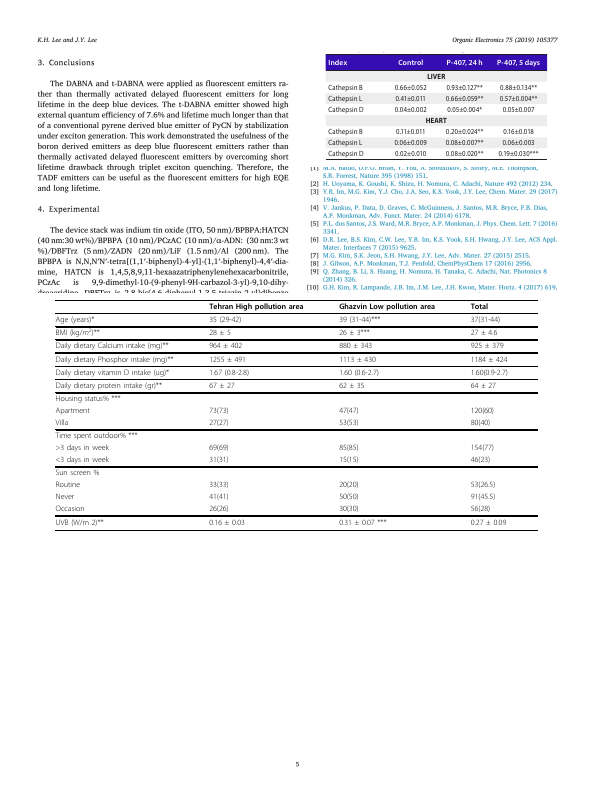borderless: (54, 298, 538, 530), (326, 52, 547, 159)
cell: (55, 355, 175, 364), (55, 381, 163, 391), (55, 342, 170, 351), (55, 368, 170, 377), (338, 302, 436, 311), (208, 302, 304, 311), (55, 432, 138, 441), (55, 394, 121, 404), (55, 455, 110, 465), (54, 327, 101, 338), (55, 444, 110, 453), (55, 518, 104, 527), (338, 518, 387, 527), (338, 315, 381, 325), (54, 315, 95, 325), (55, 469, 100, 478), (496, 58, 541, 67), (208, 368, 250, 377), (338, 368, 380, 377), (497, 150, 539, 159), (55, 406, 91, 416), (208, 355, 247, 364), (338, 355, 377, 364), (470, 368, 509, 377), (445, 83, 484, 92), (499, 83, 538, 92), (445, 94, 484, 103), (499, 94, 538, 103), (445, 128, 484, 137), (445, 139, 484, 148), (445, 150, 484, 159), (470, 355, 508, 364), (208, 518, 246, 527), (446, 58, 484, 67), (208, 315, 242, 325), (470, 518, 507, 527), (327, 83, 364, 92), (327, 105, 364, 114), (446, 105, 483, 114), (327, 128, 364, 137), (327, 150, 364, 159), (338, 328, 371, 338), (327, 94, 363, 103), (327, 139, 363, 148), (208, 342, 243, 351), (338, 342, 373, 351), (470, 342, 505, 351), (393, 139, 428, 148), (501, 139, 536, 148), (470, 315, 501, 325), (394, 83, 428, 92), (394, 105, 428, 114), (394, 94, 427, 103), (502, 105, 535, 114), (502, 128, 535, 137), (394, 150, 427, 159), (470, 328, 498, 338), (395, 128, 426, 137), (208, 381, 235, 391), (338, 381, 365, 391), (470, 381, 497, 391), (55, 505, 85, 514), (470, 406, 495, 416), (397, 58, 424, 67), (208, 328, 232, 338), (55, 481, 81, 490), (470, 481, 496, 490), (470, 493, 496, 502), (470, 444, 495, 453), (208, 406, 230, 416), (208, 418, 230, 428), (208, 455, 230, 465), (338, 406, 359, 416), (338, 418, 359, 428), (470, 418, 491, 428), (338, 455, 359, 465), (470, 455, 491, 465), (208, 444, 230, 453), (208, 481, 230, 490), (208, 493, 230, 502), (208, 505, 230, 514), (338, 444, 359, 453), (338, 481, 359, 490), (338, 493, 359, 502), (338, 505, 359, 514), (470, 505, 491, 514), (327, 58, 348, 67), (55, 493, 75, 502), (470, 302, 489, 311), (425, 117, 448, 124), (55, 418, 69, 428), (426, 72, 446, 79)
